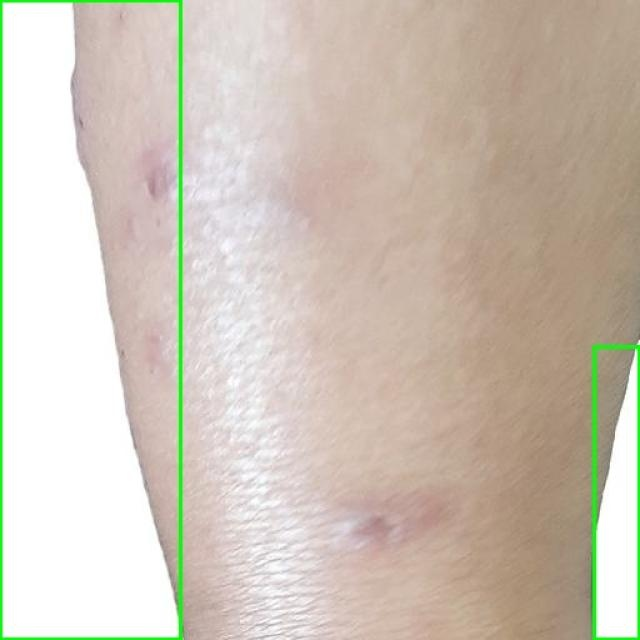Eczema: (0, 0, 180, 639), (594, 346, 639, 639)
